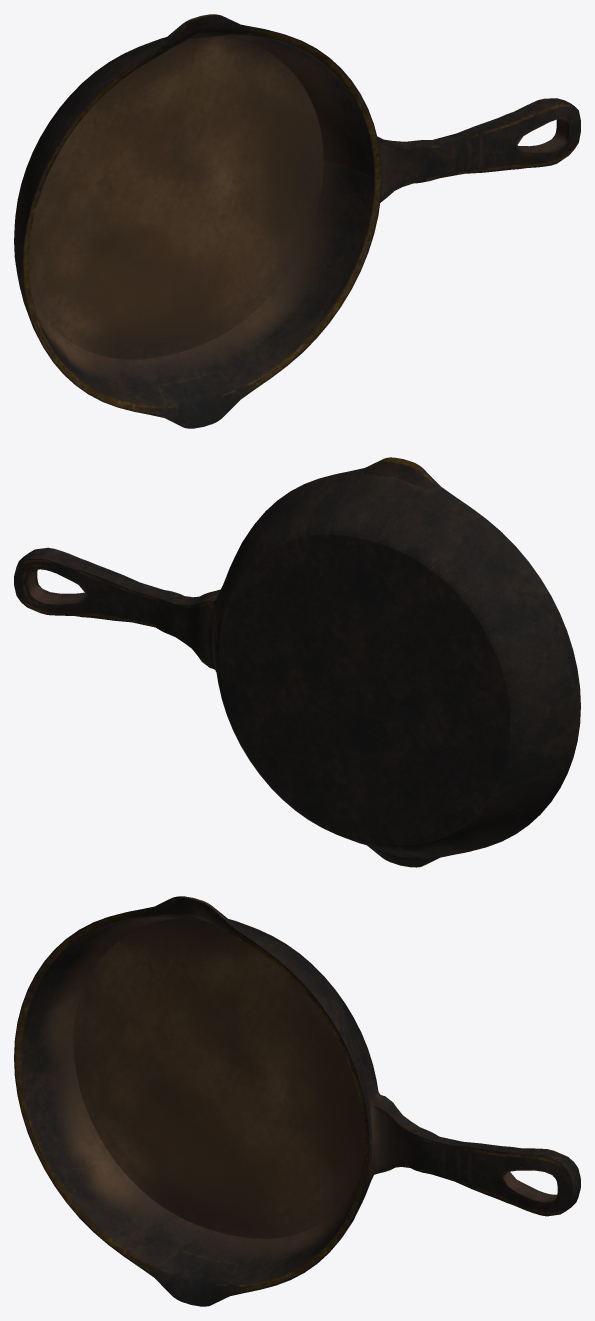
File: frying_pan.obj
3 renders of one model, top to bottom at view 1: azimuth 30°, elevation 25°; view 2: azimuth 150°, elevation 25°; view 3: azimuth 330°, elevation 25°, orthographic.
Visible parts, largest first — view 1: Circle.001_meshId0_name; view 2: Circle.001_meshId0_name; view 3: Circle.001_meshId0_name.
Part boxes in pixels (x1,y1,x2,y2): Circle.001_meshId0_name: (14, 14, 580, 428); Circle.001_meshId0_name: (14, 457, 580, 867); Circle.001_meshId0_name: (14, 896, 580, 1306).
Size of the model in its own units: 0.3 by 0.2092 by 0.0364.
Materials: 1 (1 with a texture image).
